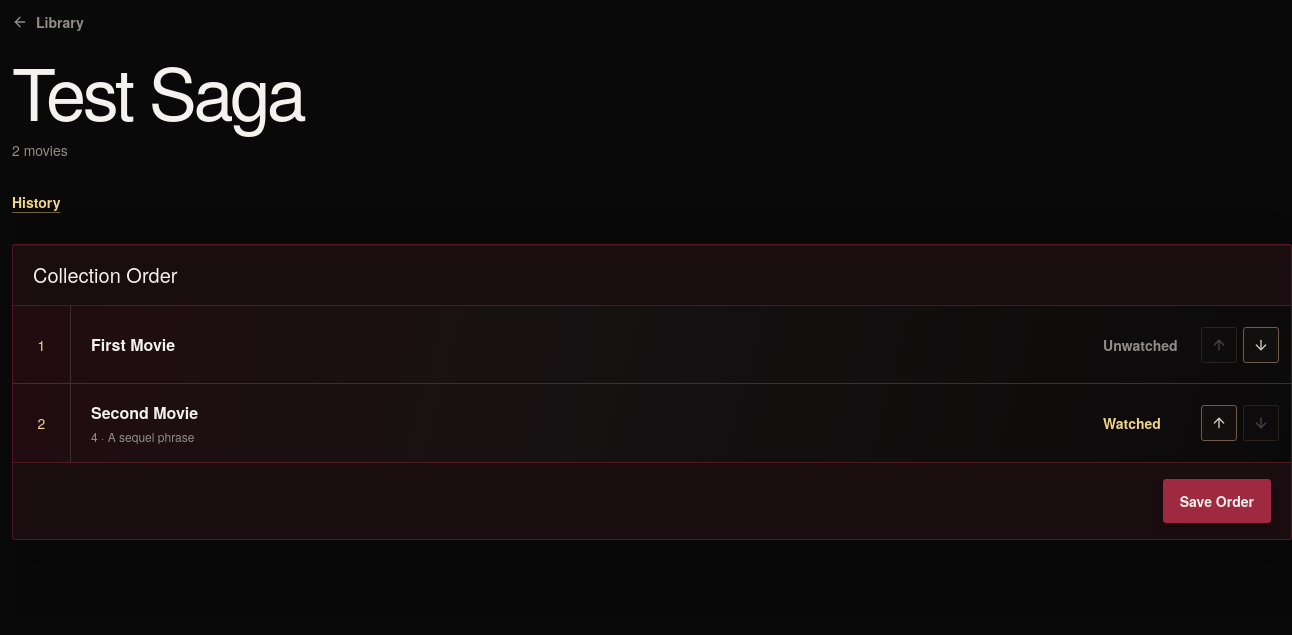
Test: collection details › shows collapsed collection attribution only to an authenticated user
This screenshot has width=1292, height=635.
Expected: the text "Creating User" is not shown
Click the heading "History": (36, 202) [12,192,60,212]
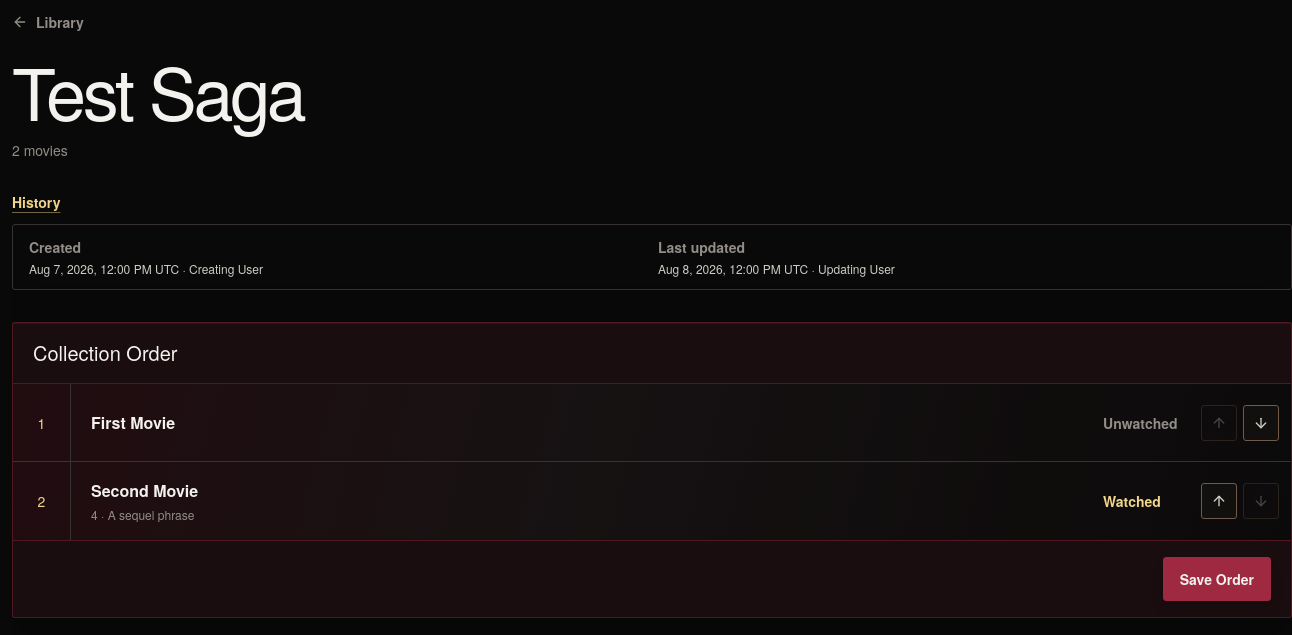
Now the text "Aug 7, 2026, 12:00 PM UTC · Creating User" is shown, box [29,260,263,277]
Now the text "Aug 8, 2026, 12:00 PM UTC · Updating User" is shown, box [658,260,895,277]
